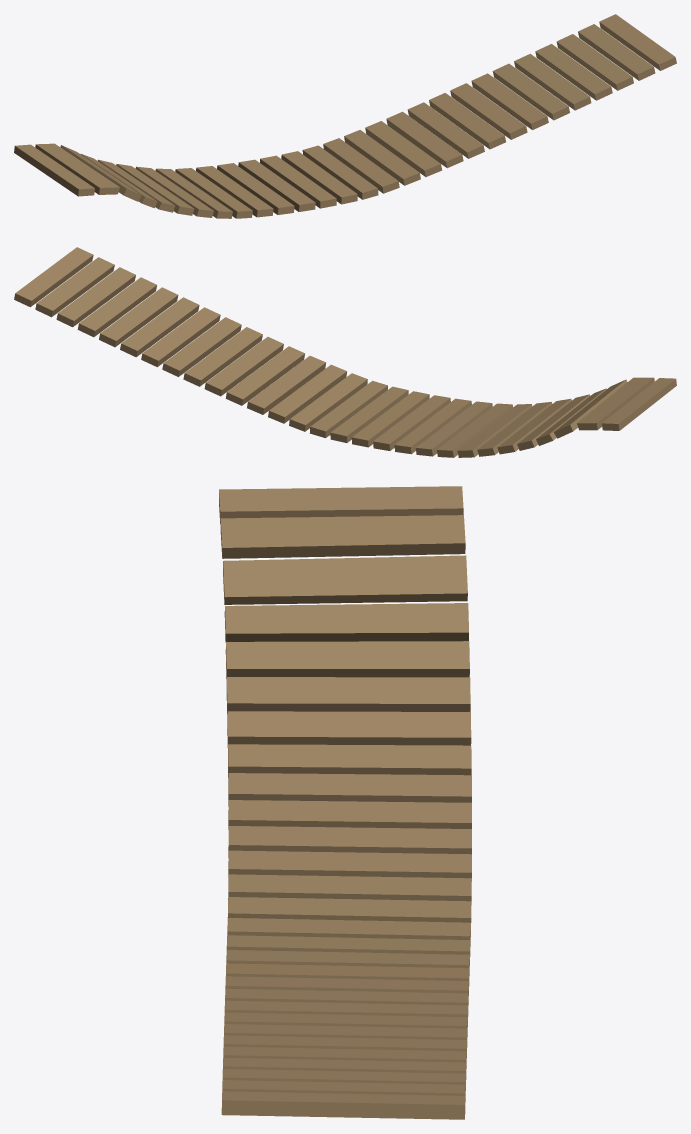
The model's file is brick_anim.fbx.
3 views of the same model, one above another, from view 1: azimuth 30°, elevation 25°; view 2: azimuth 150°, elevation 25°; view 3: azimuth 270°, elevation 25° (orthographic). The views are drawn at different scales.
Parts seen in each view (by area): view 1: Bridge_woods; view 2: Bridge_woods; view 3: Bridge_woods.
Boxes of the visible parts, bbox=[...] form: Bridge_woods: bbox=[14, 14, 676, 218]; Bridge_woods: bbox=[14, 247, 676, 457]; Bridge_woods: bbox=[219, 486, 471, 1119].
Bounding box in the file's own units: 21.97 × 2.91 × 3.99.
